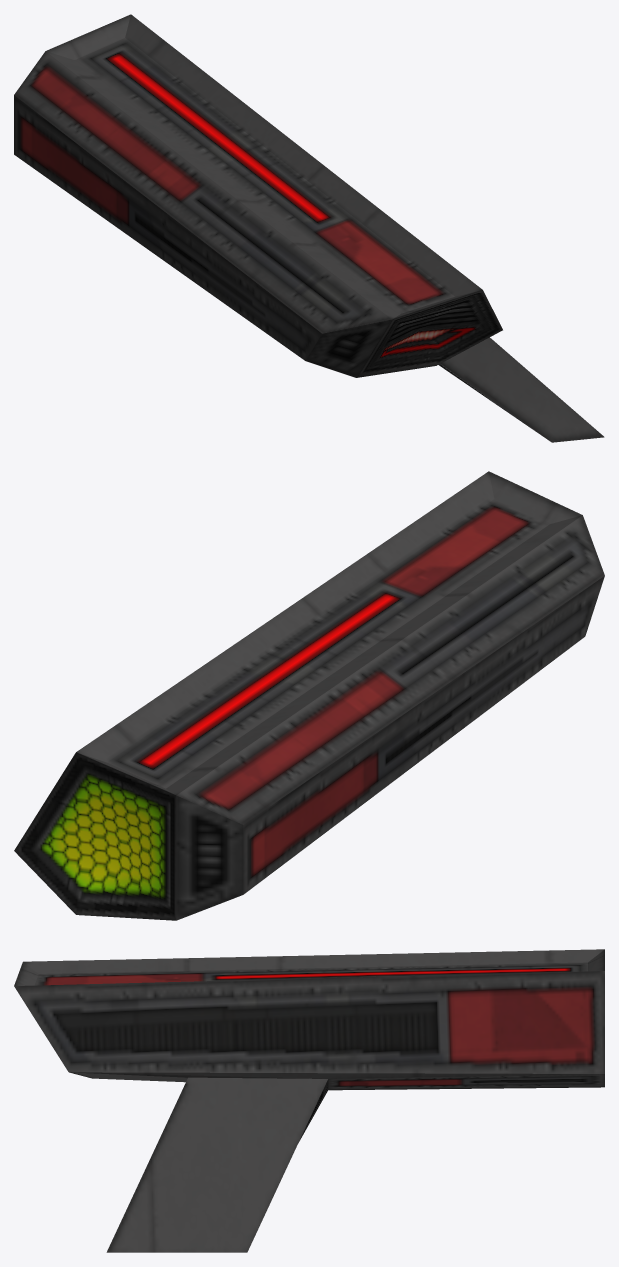
File: BFP_StrutEngine01_UpperRight.FBX
3 renders of one model, top to bottom at view 1: azimuth 30°, elevation 25°; view 2: azimuth 150°, elevation 25°; view 3: azimuth 270°, elevation 25°, orthographic. The views are drawn at different scales.
Visible parts, largest first — view 1: BFP_StrutEngine01_UpperRight; view 2: BFP_StrutEngine01_UpperRight; view 3: BFP_StrutEngine01_UpperRight.
Boxes of the visible parts, box(x1,y1,x2,y2) form: BFP_StrutEngine01_UpperRight: box(14, 14, 604, 442); BFP_StrutEngine01_UpperRight: box(14, 471, 604, 920); BFP_StrutEngine01_UpperRight: box(14, 949, 604, 1252).
Bounding box in the file's own units: 693 × 537 × 1375.
Materials: 1 (1 with a texture image).
